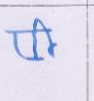i_matra: (36, 19, 58, 56)
